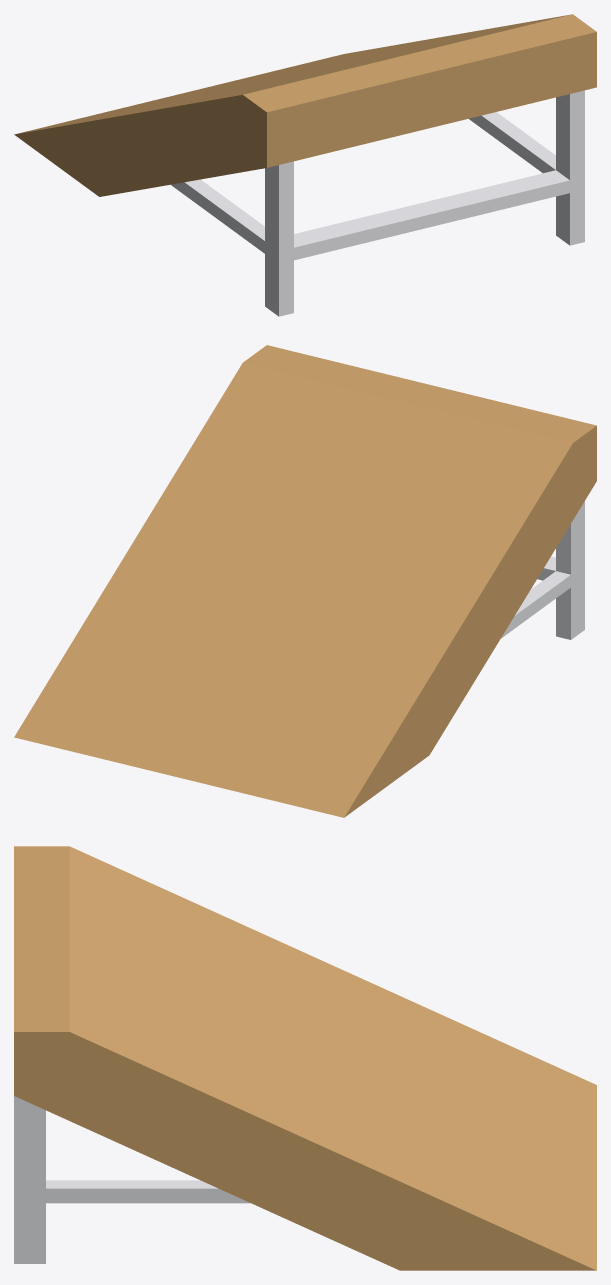
Rendered from ramp.obj.
The picture shows the model from 3 angles, top to bottom: view 1: azimuth 30°, elevation 25°; view 2: azimuth 150°, elevation 25°; view 3: azimuth 270°, elevation 25°; orthographic projection. The views are drawn at different scales.
Parts seen in each view (by area): view 1: ramp; view 2: ramp; view 3: ramp.
Part boxes in pixels (<box>): ramp: <box>14,14,596,316</box>; ramp: <box>14,345,596,817</box>; ramp: <box>14,846,596,1270</box>.
Size of the model in its own units: 0.55 by 0.33 by 0.73.
